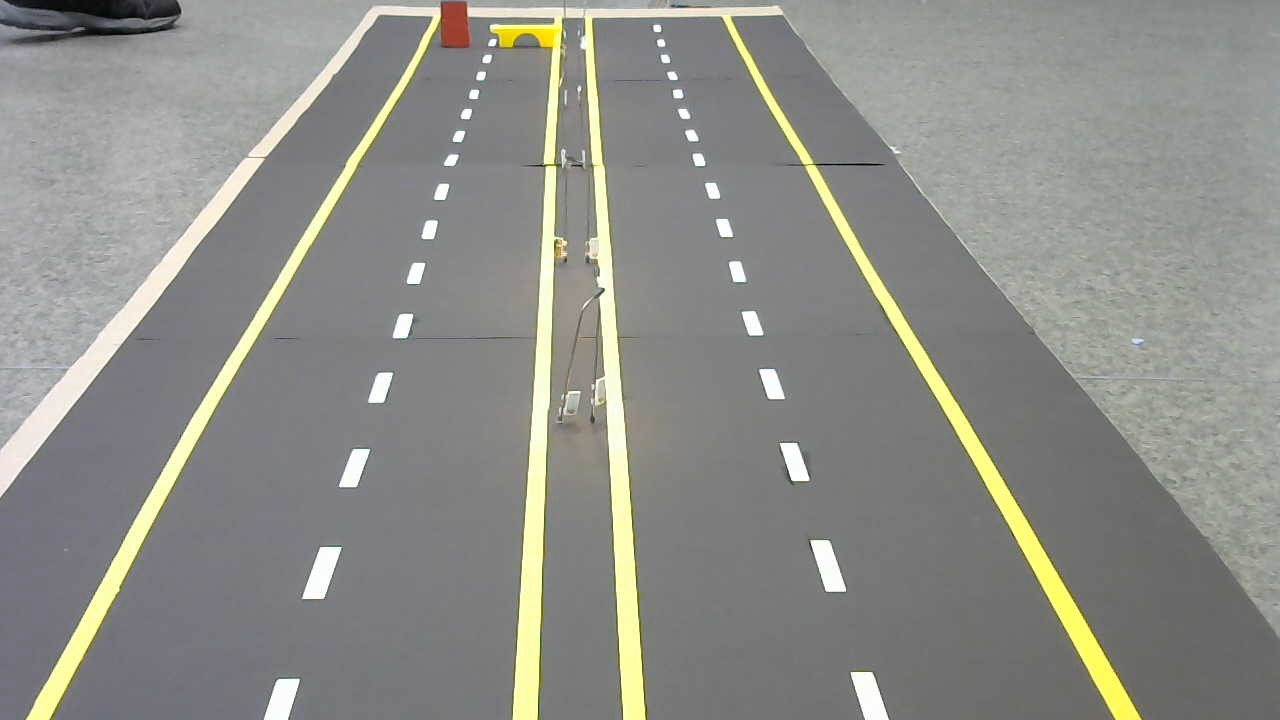accident: (437, 2, 472, 49)
emergency_situation: (486, 20, 565, 53)
